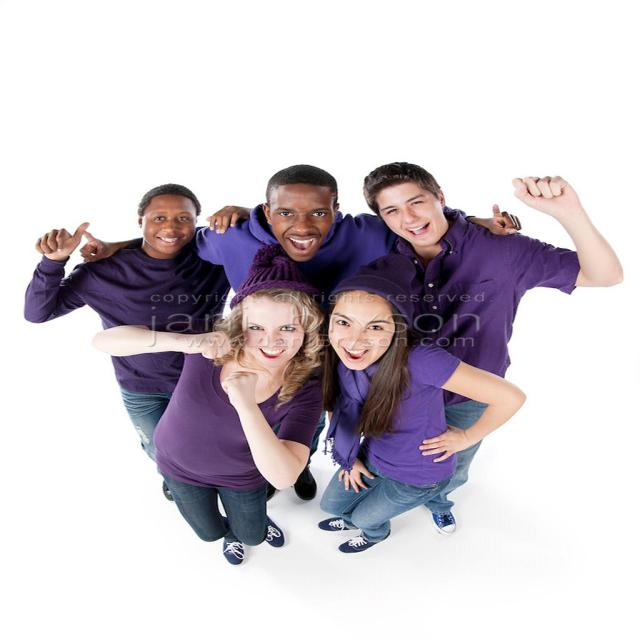nomask: (326, 292, 398, 372), (266, 183, 334, 260), (241, 304, 303, 370), (378, 190, 448, 248), (143, 195, 198, 252)
